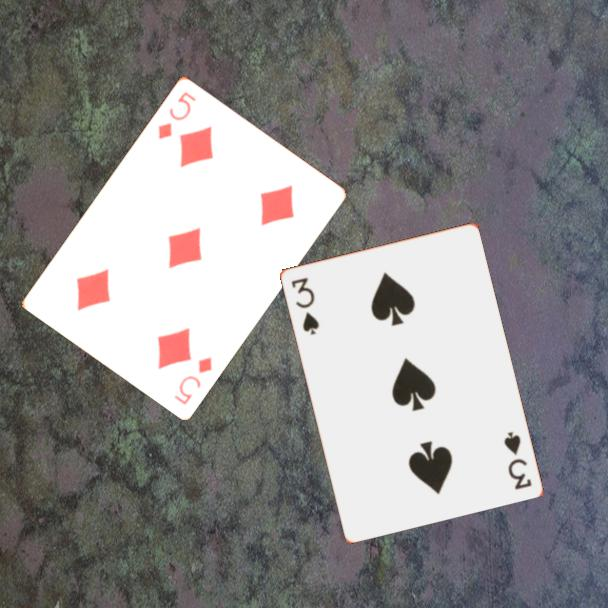d05: (154, 88, 199, 142), (170, 353, 215, 407)
s03: (287, 274, 321, 338), (500, 428, 534, 492)
